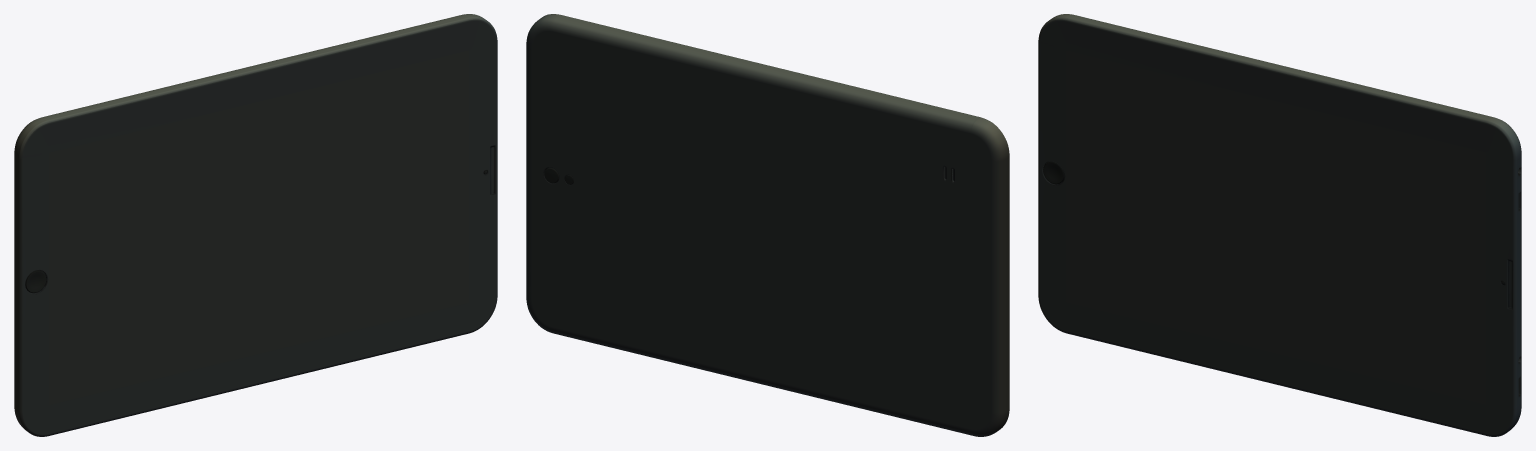
Rendered from tablet.glb.
3 views of the same model, side by side, from view 1: azimuth 30°, elevation 25°; view 2: azimuth 150°, elevation 25°; view 3: azimuth 330°, elevation 25° (orthographic).
Parts seen in each view (by area): view 1: node_id43; view 2: node_id43; view 3: node_id43.
Boxes of the visible parts, x1,y1,x2,y2 form: node_id43: (14, 14, 497, 436); node_id43: (526, 14, 1009, 436); node_id43: (1038, 14, 1521, 436).
Size of the model in its own units: 0.512 by 0.3229 by 0.0185.
1 material, 1 textured.
